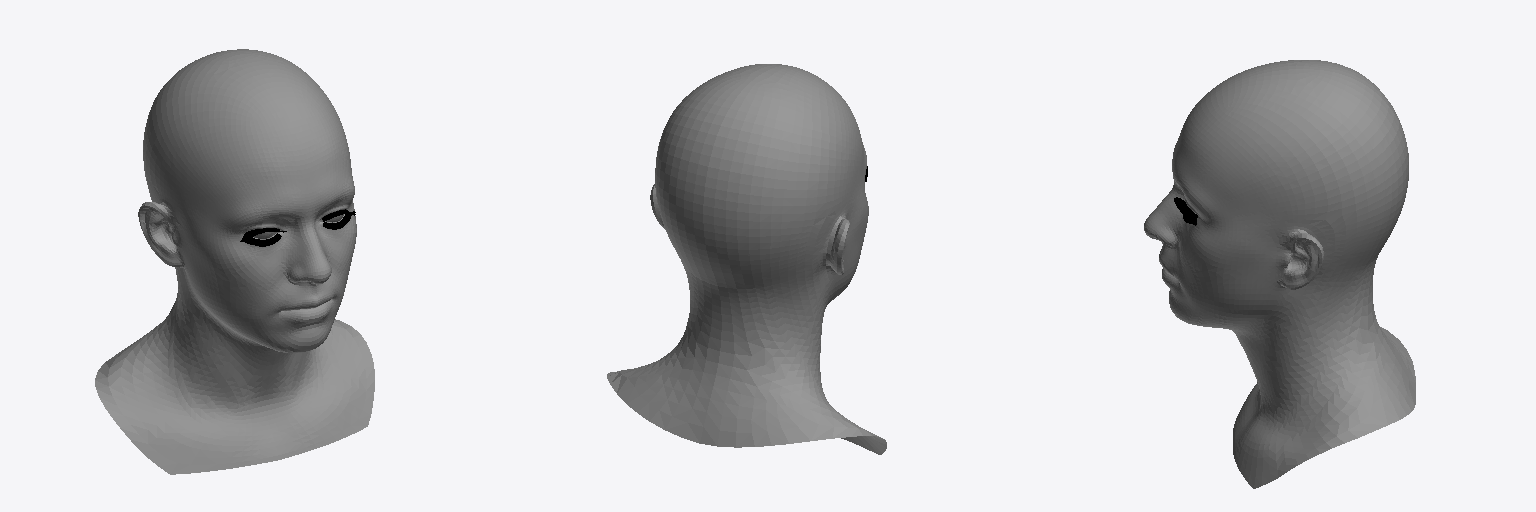
The model's file is eyeLookOut_R.obj.
3 renders of one model, left to right at view 1: azimuth 30°, elevation 25°; view 2: azimuth 150°, elevation 25°; view 3: azimuth 270°, elevation 25°, orthographic.
Bounding box in the file's own units: 24.83 × 33.81 × 22.32.